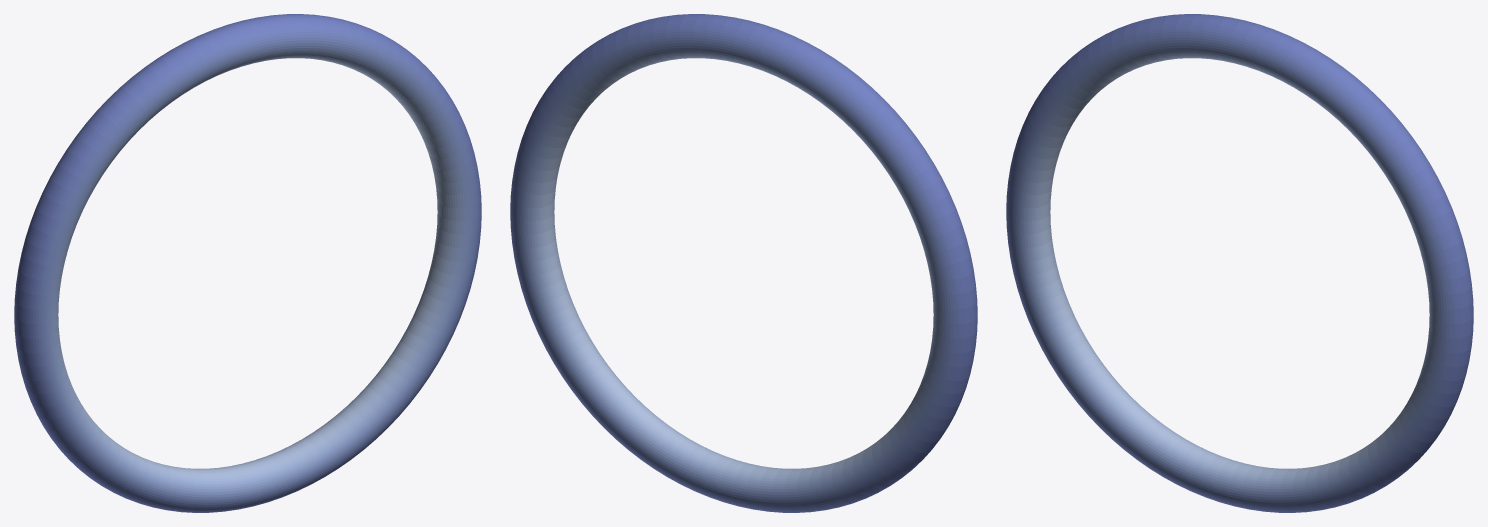
3 renders of one model, left to right at view 1: azimuth 30°, elevation 25°; view 2: azimuth 150°, elevation 25°; view 3: azimuth 330°, elevation 25°, orthographic.
Visible parts, largest first — view 1: world; view 2: world; view 3: world.
Part boxes in pixels (left/top/right/bottom): world: left=14, top=14, right=481, bottom=512; world: left=510, top=14, right=977, bottom=512; world: left=1006, top=14, right=1473, bottom=512.
Bounding box in the file's own units: 30.53 × 30.53 × 2.53.
